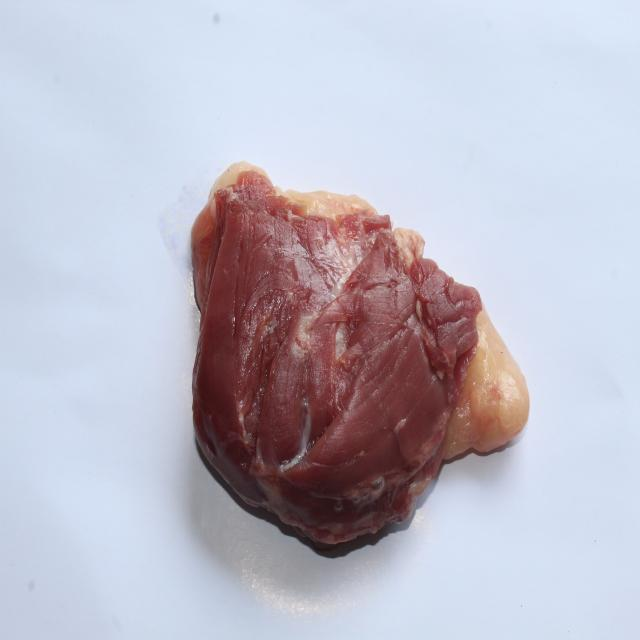beef: (166, 143, 555, 549)
